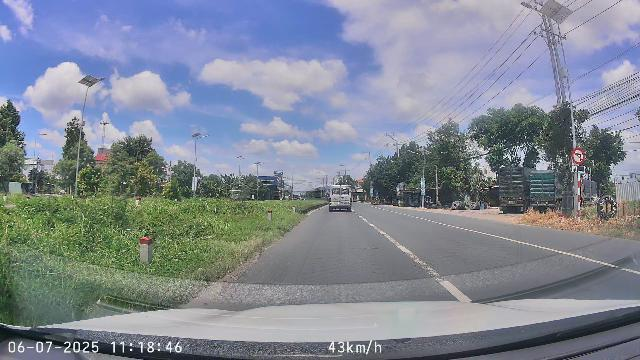123a-cam-re-trai: (572, 148, 585, 165)
